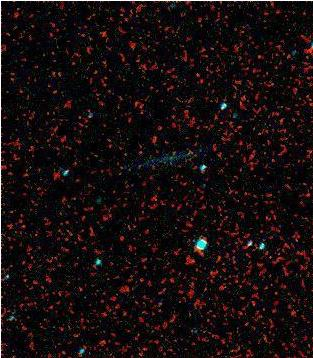star: (139, 124, 169, 154)
